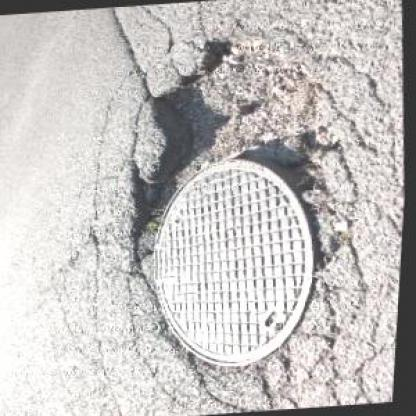pothole: (110, 25, 350, 247)
